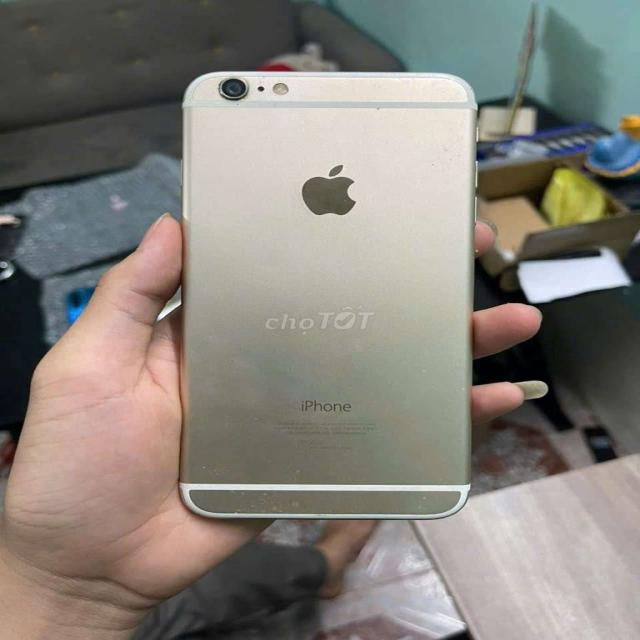gen_6: (178, 61, 493, 523)
